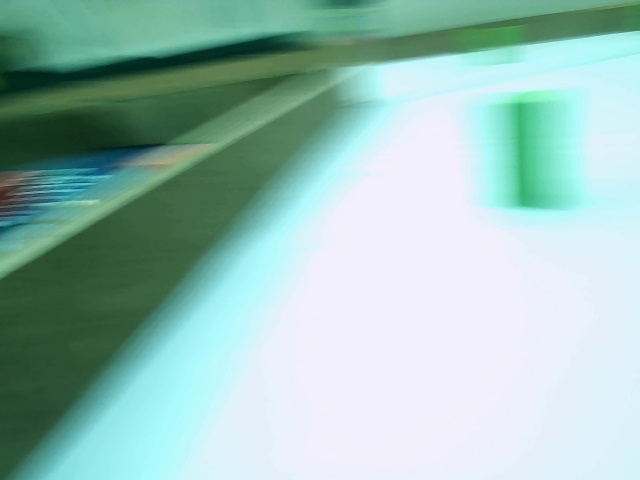green: (506, 100, 552, 207)
